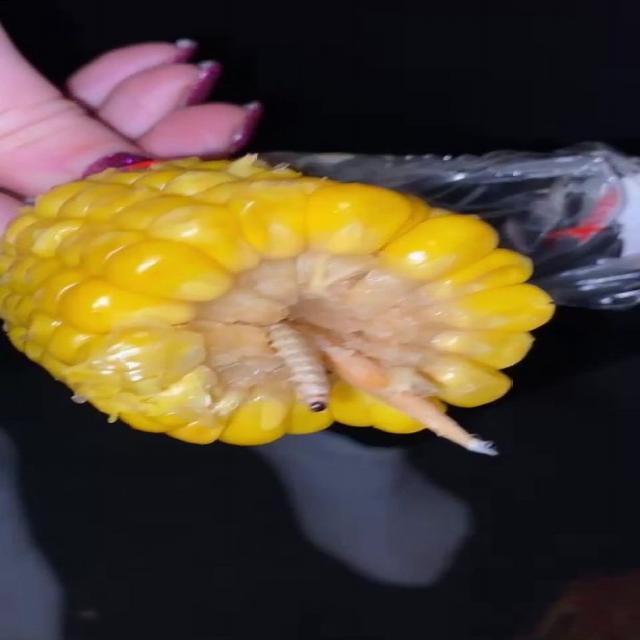cornborer-Larva-: (248, 306, 351, 424)
